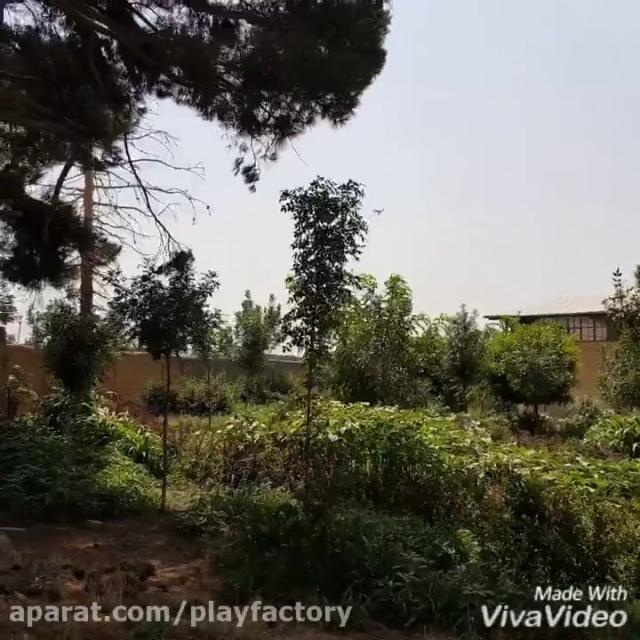drone: (370, 204, 388, 218)
